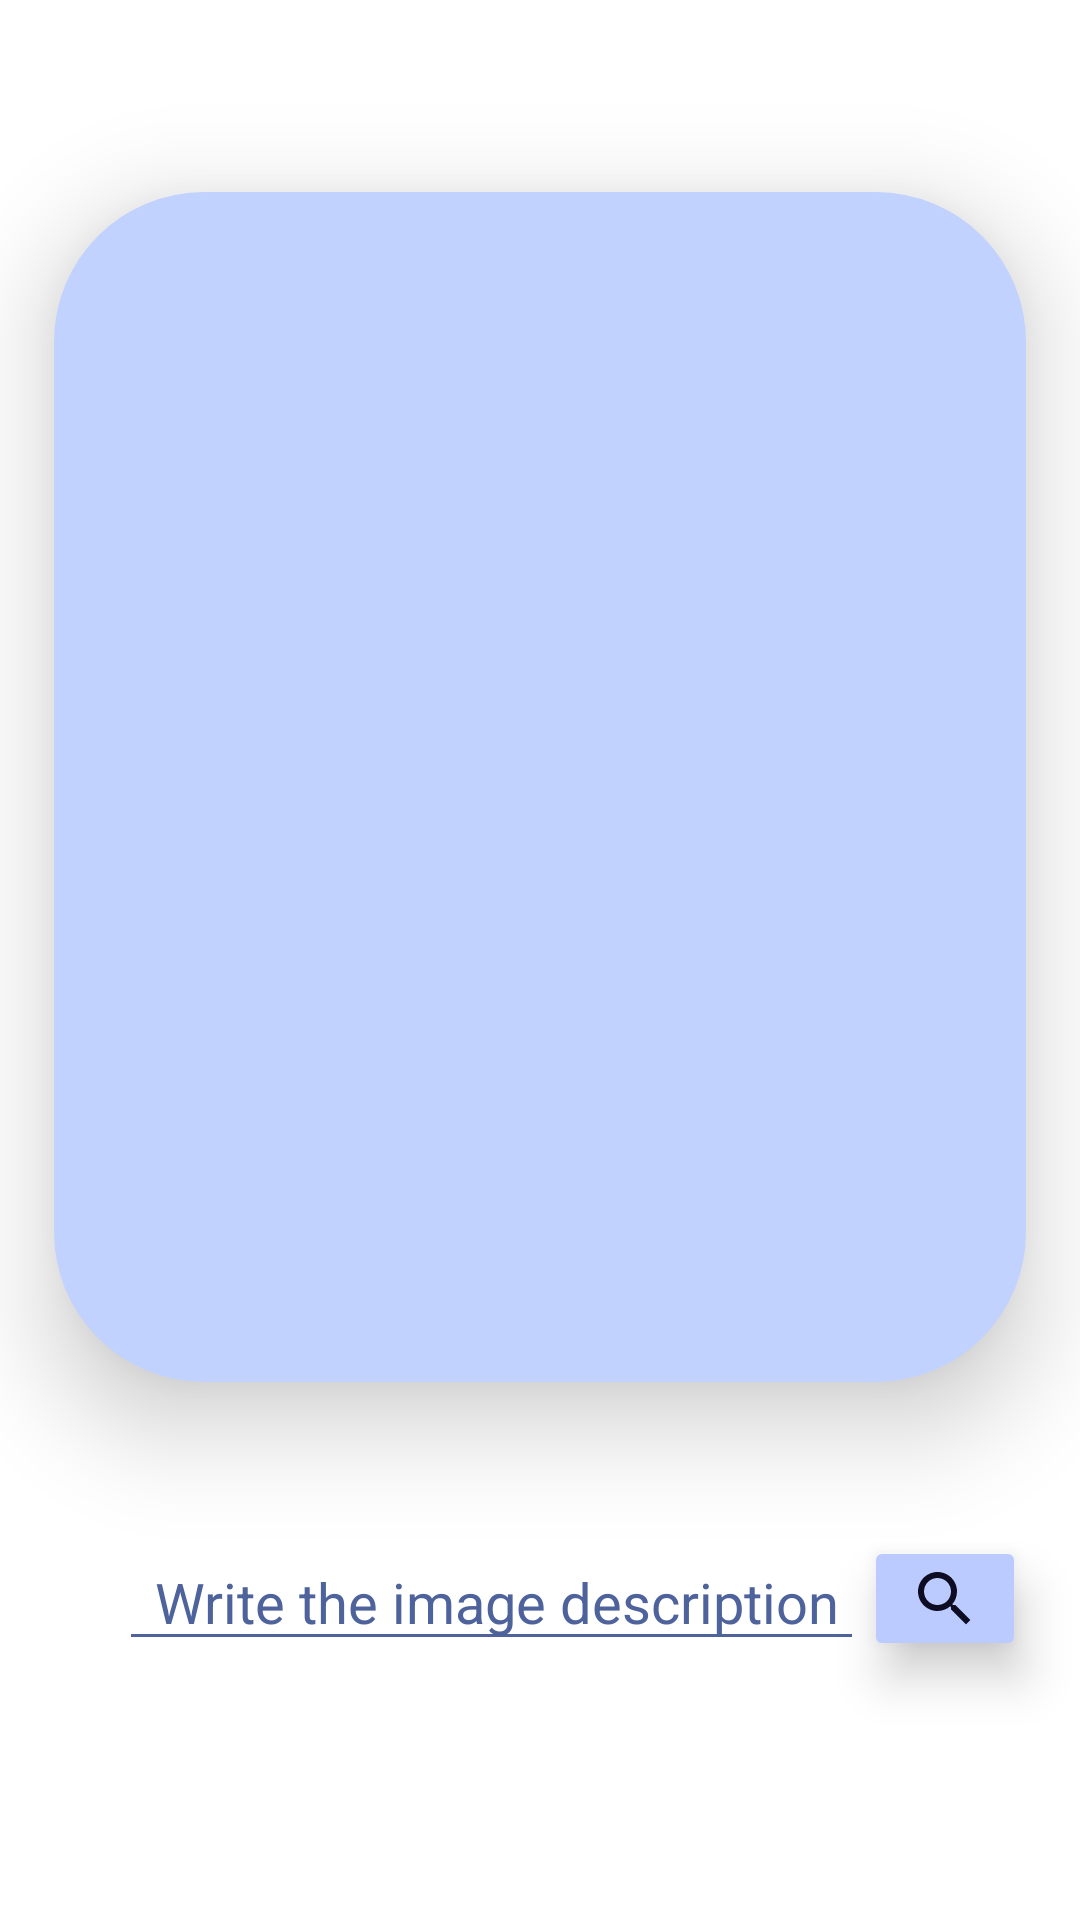

Named icons in this screenshot (1080 x 1920) and their bounding boxes, box(x1, y1, x2, y2):
search: box(876, 1554, 1019, 1661)
